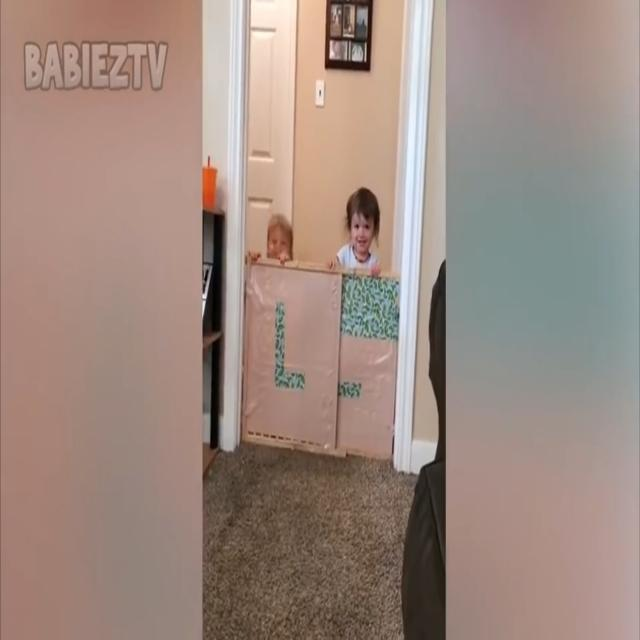child: (327, 188, 383, 279), (247, 207, 295, 267)
